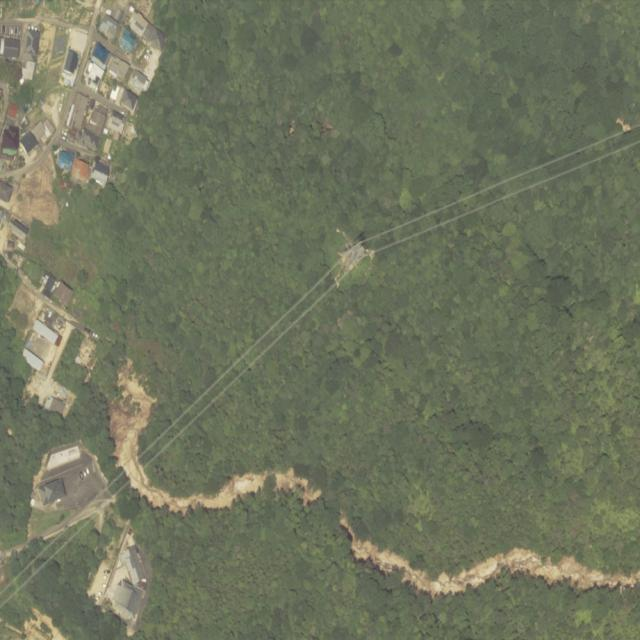landslide: (108, 359, 322, 516), (340, 513, 640, 599)
